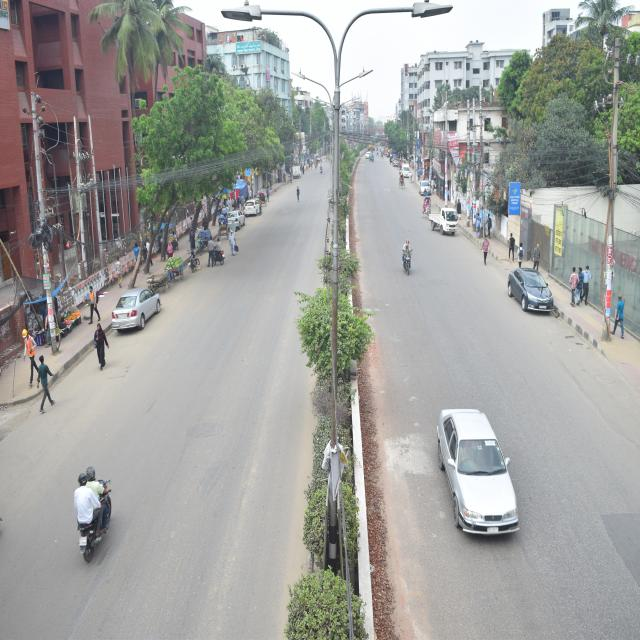car: (430, 367, 519, 540), (509, 257, 563, 356), (105, 270, 169, 349), (224, 198, 246, 246), (243, 191, 270, 222), (416, 182, 431, 203), (404, 156, 411, 177)
motorbike: (52, 421, 127, 571), (398, 225, 422, 301), (203, 229, 220, 267), (317, 152, 321, 185)
pickup-van: (428, 202, 466, 252)
